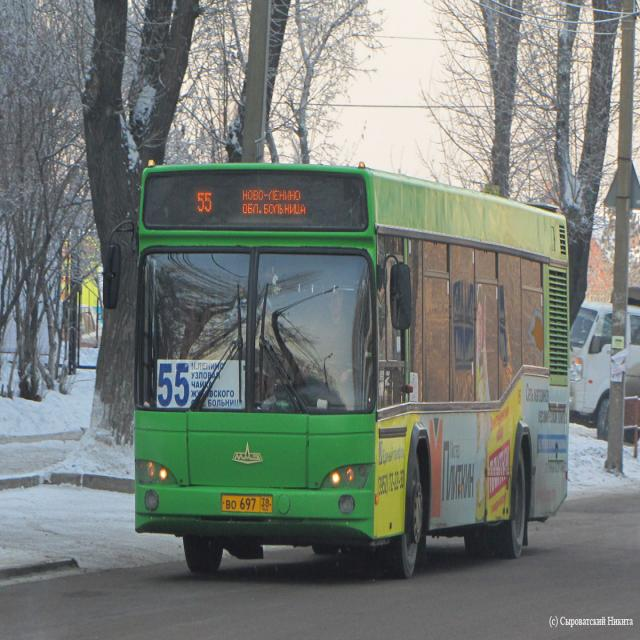number-of-bus: (158, 361, 192, 409)
